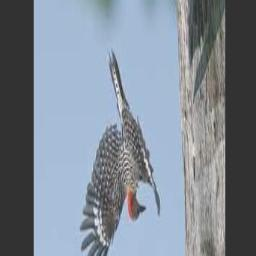Woodpecker: (79, 50, 160, 256)
